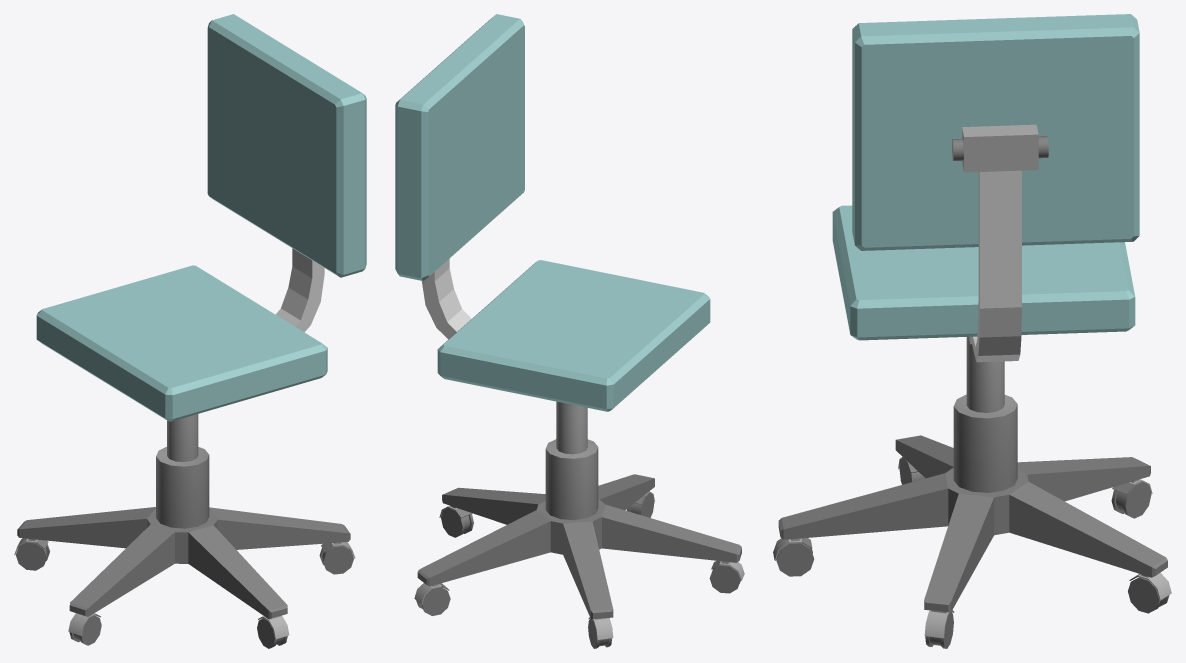
Rendered from ChairBoss_LowBevel.FBX.
The picture shows the model from 3 angles, left to right: view 1: azimuth 30°, elevation 25°; view 2: azimuth 150°, elevation 25°; view 3: azimuth 270°, elevation 25°; orthographic projection. The views are drawn at different scales.
Visible parts, largest first — view 1: ChairBoss_LowPoly; view 2: ChairBoss_LowPoly; view 3: ChairBoss_LowPoly.
Part boxes in pixels (<box>): ChairBoss_LowPoly: <box>14,14,366,648</box>; ChairBoss_LowPoly: <box>395,14,744,648</box>; ChairBoss_LowPoly: <box>773,14,1171,648</box>.
Size of the model in its own units: 25.32 by 41.36 by 24.72.
